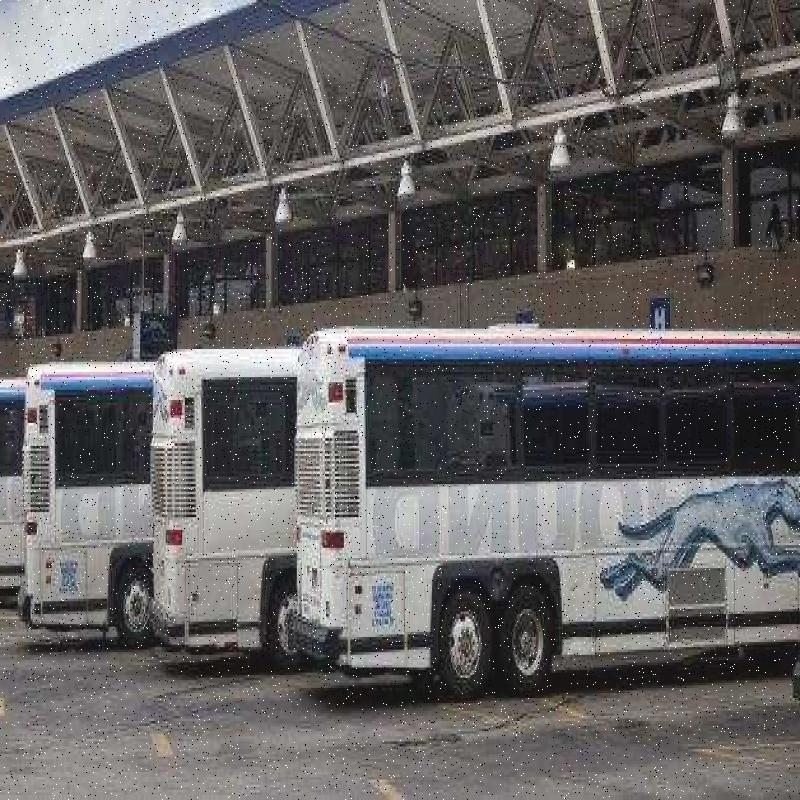bus: (300, 308, 786, 707), (156, 316, 287, 715), (8, 336, 140, 654)
